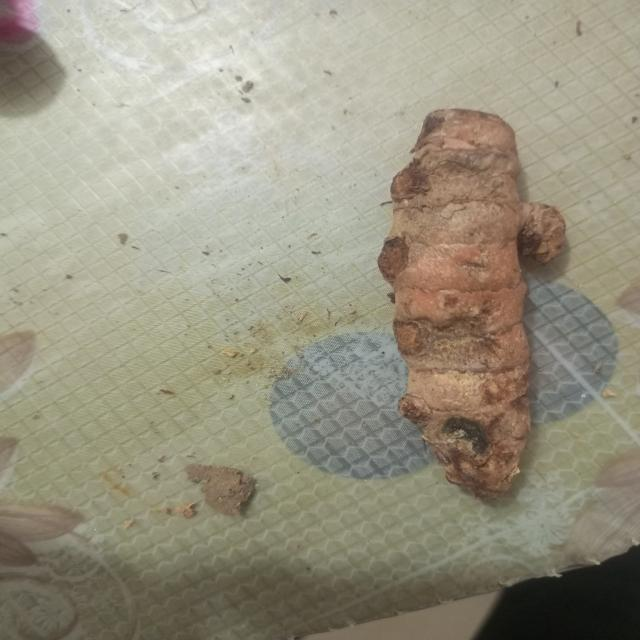ginger: (392, 106, 564, 498)
